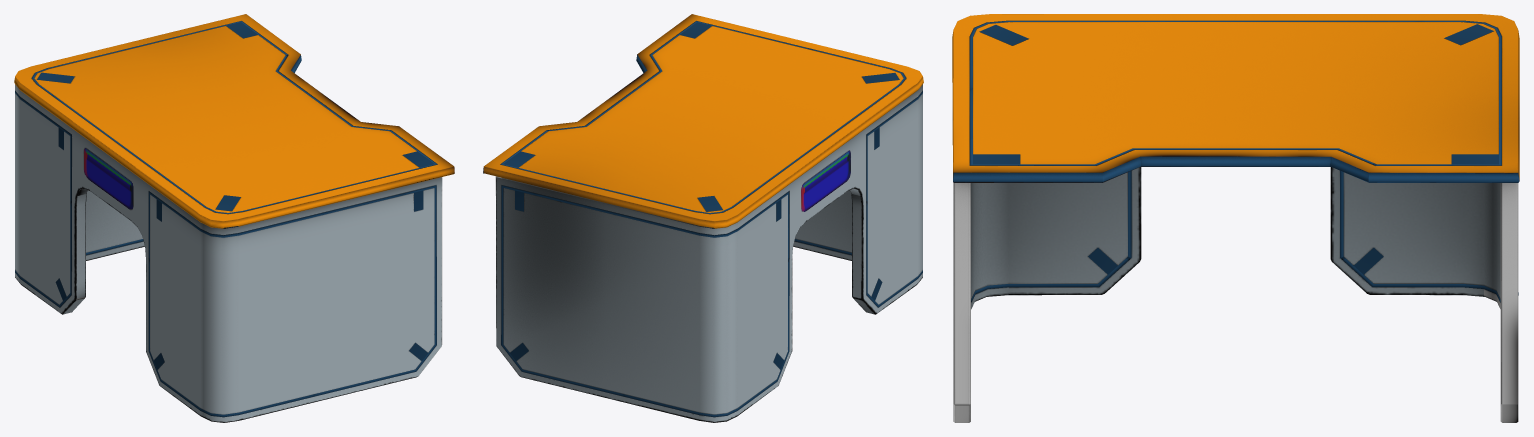
The model's file is TableA.fbx.
The picture shows the model from 3 angles, left to right: view 1: azimuth 30°, elevation 25°; view 2: azimuth 150°, elevation 25°; view 3: azimuth 270°, elevation 25°; orthographic projection. The views are drawn at different scales.
Visible parts, largest first — view 1: TableA; view 2: TableA; view 3: TableA.
Boxes of the visible parts, box(x1,y1,x2,y2) form: TableA: box(14, 14, 454, 422); TableA: box(483, 14, 923, 422); TableA: box(952, 14, 1519, 422).
Bounding box in the file's own units: 140 × 112 × 210.
